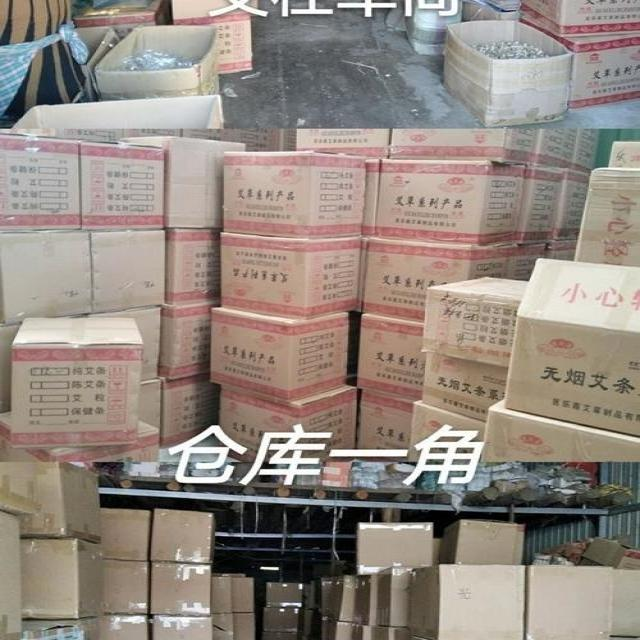box: (504, 258, 640, 437), (12, 317, 143, 447), (442, 19, 573, 127), (210, 307, 351, 403), (374, 160, 525, 247), (220, 230, 361, 320), (362, 237, 509, 323), (223, 150, 366, 237), (119, 137, 248, 228), (521, 14, 640, 110), (218, 386, 356, 463), (483, 398, 640, 463), (421, 276, 530, 369), (95, 25, 221, 102), (408, 565, 526, 640), (1, 230, 91, 325), (0, 411, 160, 462), (0, 133, 82, 230), (81, 139, 165, 229), (10, 95, 225, 128), (20, 537, 104, 619), (19, 462, 102, 543), (526, 565, 613, 640), (172, 0, 260, 74), (575, 167, 640, 267), (90, 228, 165, 314), (355, 313, 426, 400), (421, 353, 508, 421), (389, 129, 538, 165), (92, 306, 163, 380), (157, 299, 220, 380), (408, 401, 486, 462), (521, 0, 640, 38), (165, 227, 221, 305), (161, 374, 219, 447), (513, 166, 566, 244), (356, 522, 431, 574), (438, 520, 524, 565), (150, 508, 218, 563), (74, 0, 173, 37), (357, 391, 416, 450), (152, 562, 212, 616), (77, 25, 119, 100), (294, 129, 390, 159), (101, 507, 152, 561), (0, 511, 20, 640), (104, 558, 150, 614), (180, 128, 283, 151), (556, 170, 589, 240), (376, 567, 412, 626), (0, 462, 36, 518), (529, 129, 579, 169), (612, 569, 640, 637), (12, 127, 125, 143), (0, 323, 19, 414), (326, 576, 358, 624), (152, 615, 214, 639), (506, 245, 547, 280), (572, 129, 603, 173), (99, 615, 150, 640), (365, 159, 381, 236), (356, 576, 379, 625), (140, 378, 161, 429), (262, 607, 302, 631), (268, 582, 305, 607), (609, 141, 640, 169), (212, 578, 233, 614), (233, 578, 255, 612), (544, 239, 579, 260), (325, 619, 356, 640), (212, 613, 234, 640), (234, 613, 255, 640), (125, 127, 180, 137), (372, 625, 408, 640), (616, 548, 640, 570), (316, 578, 330, 614), (303, 610, 321, 636), (303, 584, 316, 610), (262, 631, 297, 640), (356, 624, 371, 640)
